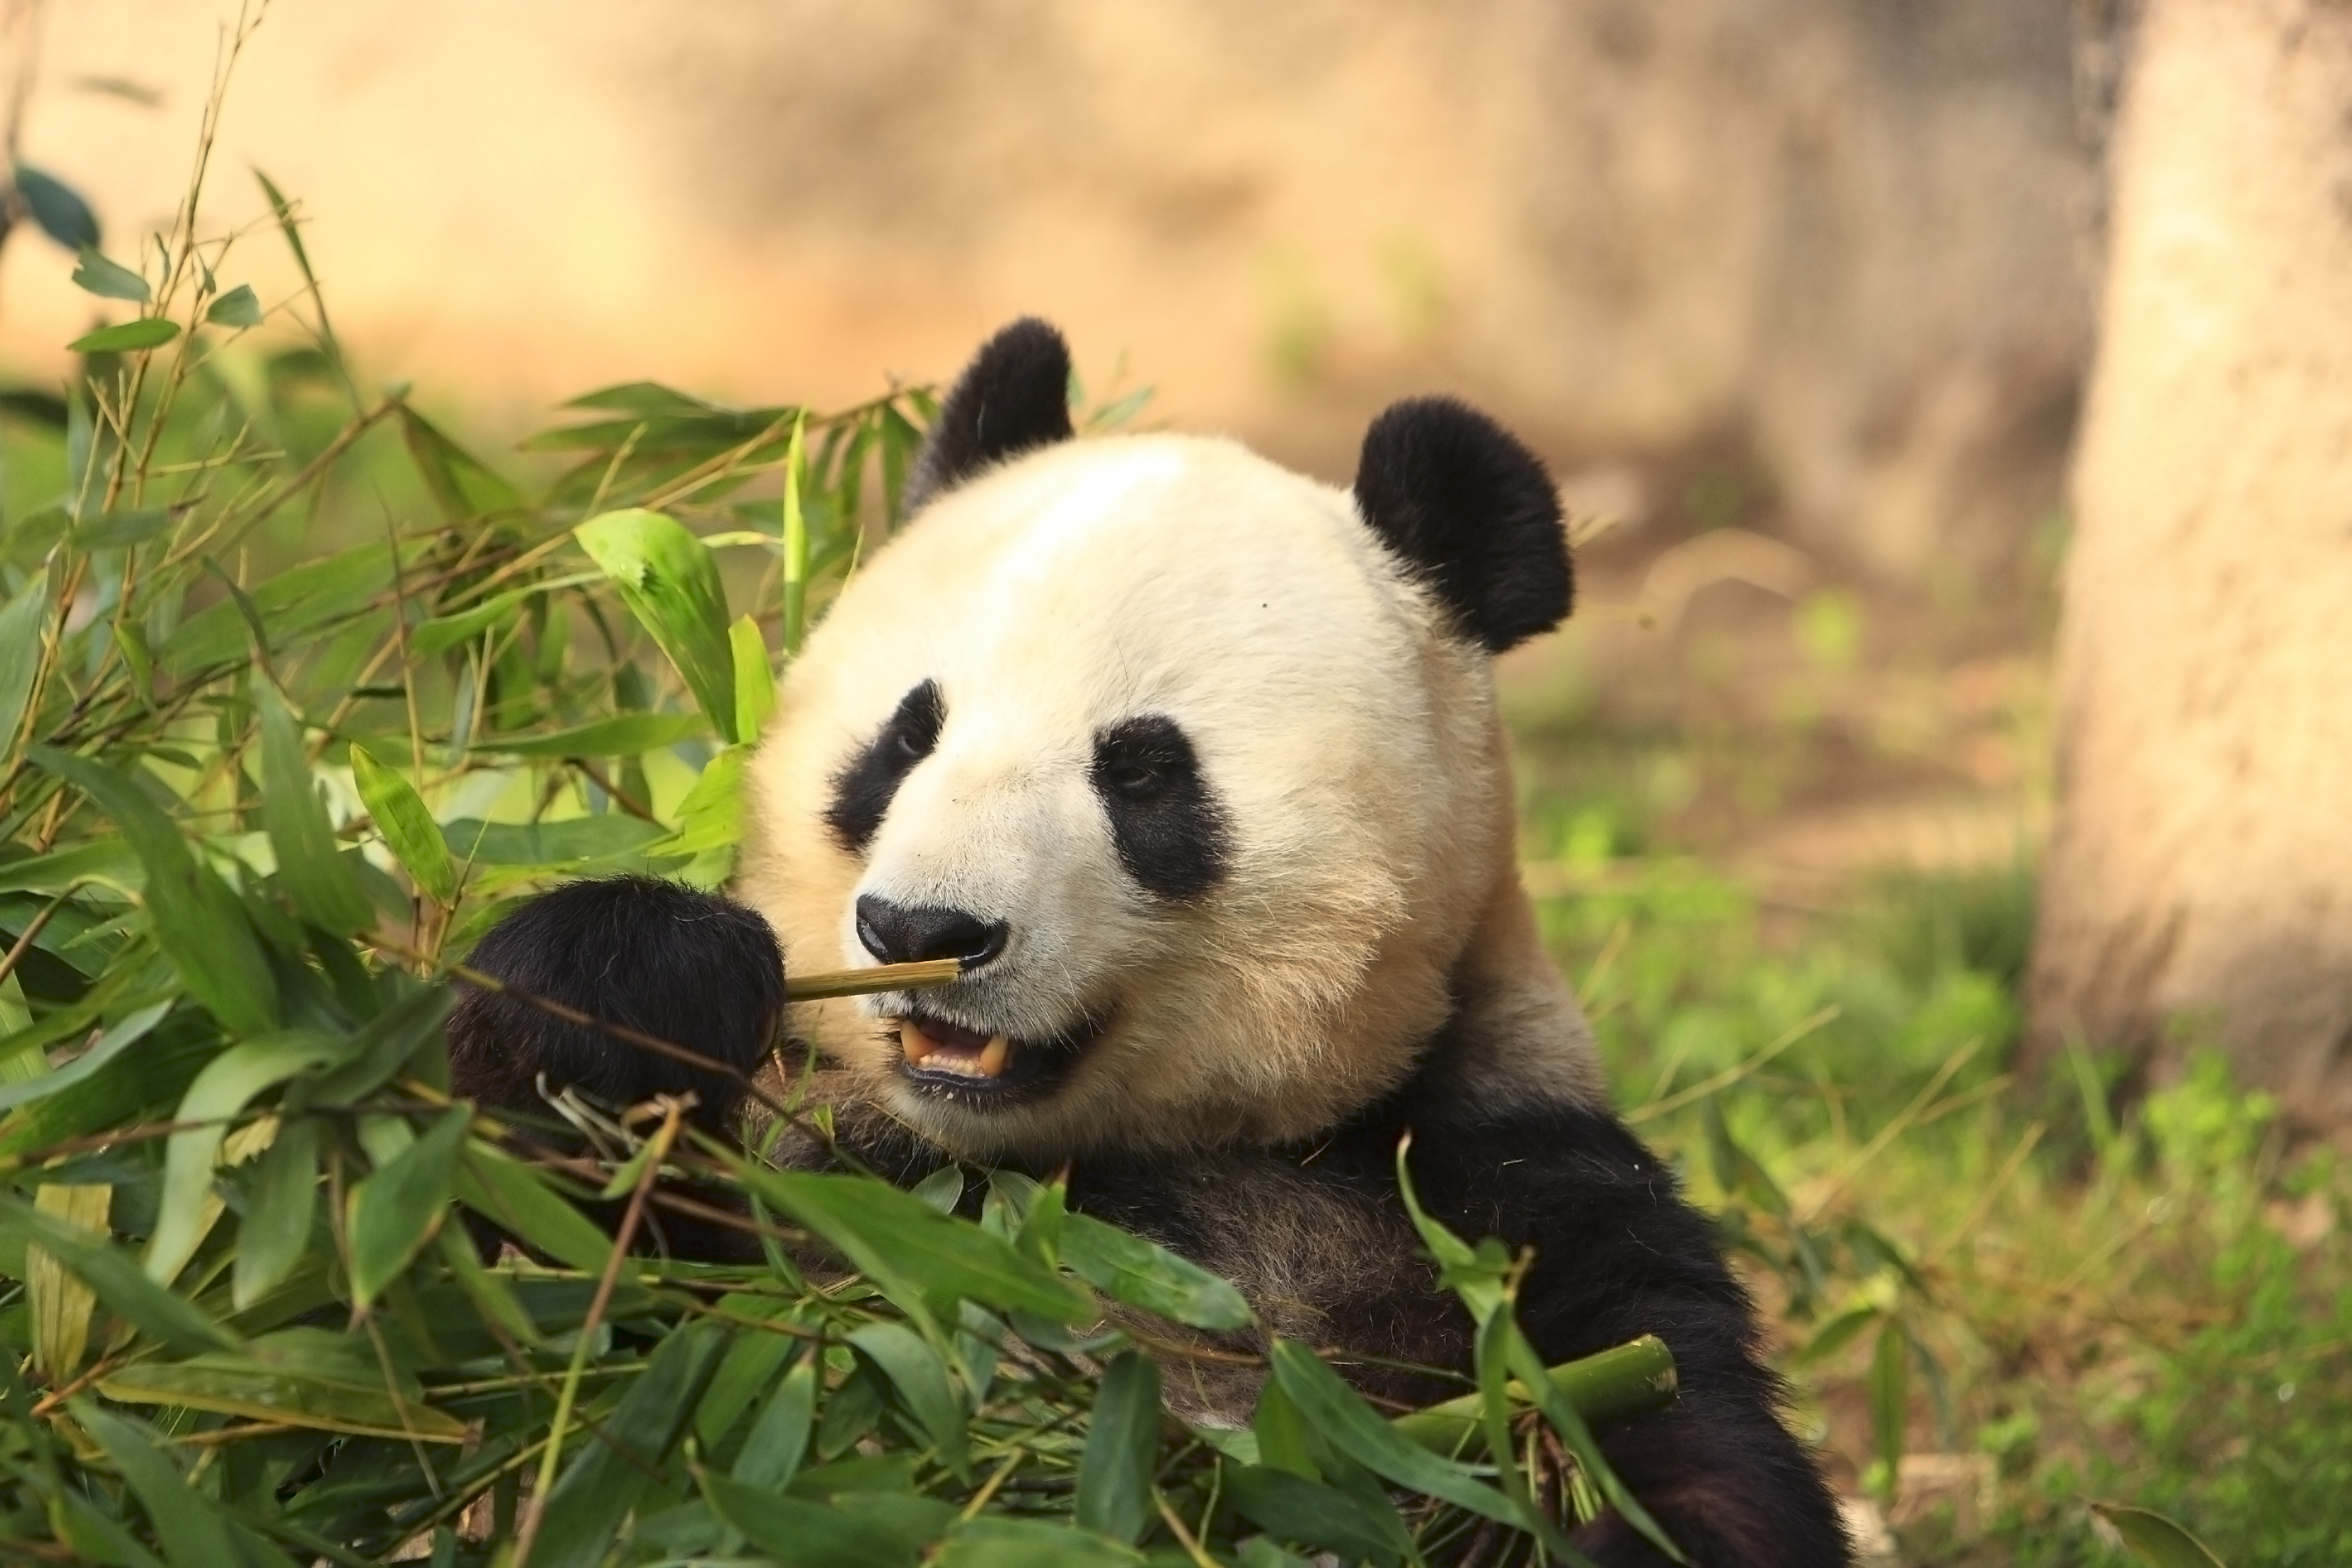panda: (339, 276, 1892, 1461)
